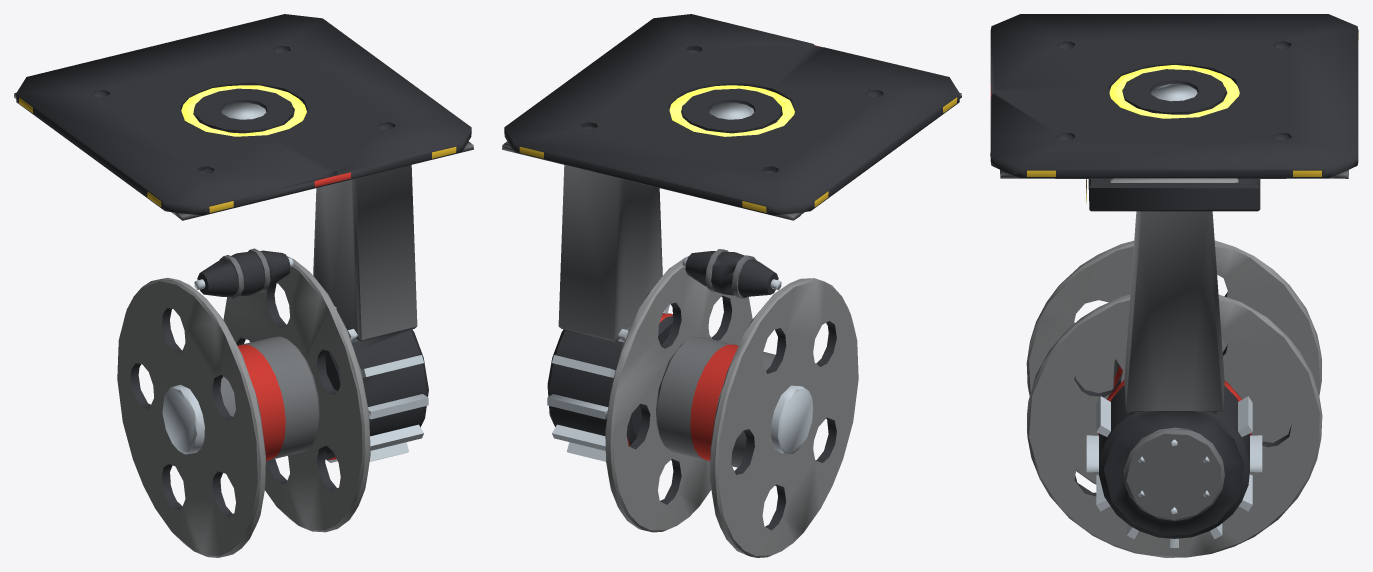
Rendered from R4M_OmniDrive_LOD1.fbx.
3 views of the same model, side by side, from view 1: azimuth 30°, elevation 25°; view 2: azimuth 150°, elevation 25°; view 3: azimuth 270°, elevation 25° (orthographic). The views are drawn at different scales.
Parts seen in each view (by area): view 1: R4M_OmniDrive_MotorPod_LOD1, R4M_OmniDrive_Hub_LOD1, R4M_OmniDrive_Roller_10_LOD1, R4M_OmniDrive_Roller_06_LOD1, R4M_OmniDrive_Roller_09_LOD1; view 2: R4M_OmniDrive_MotorPod_LOD1, R4M_OmniDrive_Hub_LOD1, R4M_OmniDrive_Roller_06_LOD1, R4M_OmniDrive_Roller_07_LOD1, R4M_OmniDrive_Roller_01_LOD1; view 3: R4M_OmniDrive_MotorPod_LOD1, R4M_OmniDrive_Hub_LOD1.
Boxes of the visible parts, <box> form: R4M_OmniDrive_MotorPod_LOD1: <box>14,14,473,462</box>; R4M_OmniDrive_Hub_LOD1: <box>117,256,370,557</box>; R4M_OmniDrive_Roller_10_LOD1: <box>197,251,293,288</box>; R4M_OmniDrive_Roller_06_LOD1: <box>194,248,292,298</box>; R4M_OmniDrive_Roller_09_LOD1: <box>199,266,292,298</box>; R4M_OmniDrive_MotorPod_LOD1: <box>502,14,961,461</box>; R4M_OmniDrive_Hub_LOD1: <box>605,256,858,557</box>; R4M_OmniDrive_Roller_06_LOD1: <box>682,250,778,294</box>; R4M_OmniDrive_Roller_07_LOD1: <box>682,250,781,298</box>; R4M_OmniDrive_Roller_01_LOD1: <box>685,265,775,296</box>; R4M_OmniDrive_MotorPod_LOD1: <box>990,14,1358,547</box>; R4M_OmniDrive_Hub_LOD1: <box>1026,240,1322,557</box>.
Bounding box in the file's own units: 0.5214 × 0.6732 × 0.5108.
